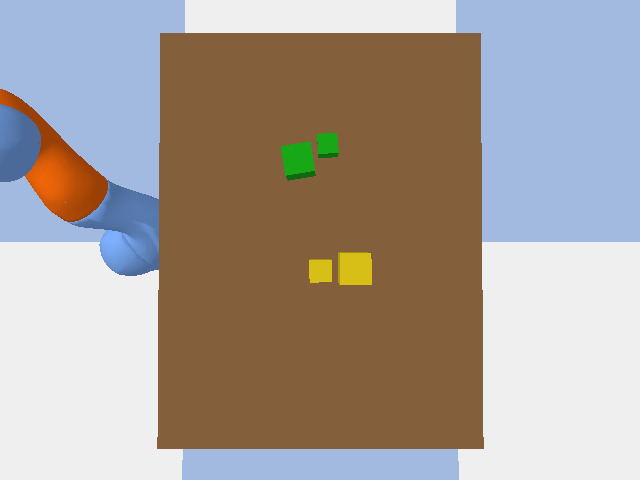green_obj: (281, 141, 315, 180), (317, 133, 338, 157)
yellow_obj: (338, 252, 371, 284), (309, 259, 331, 282)
